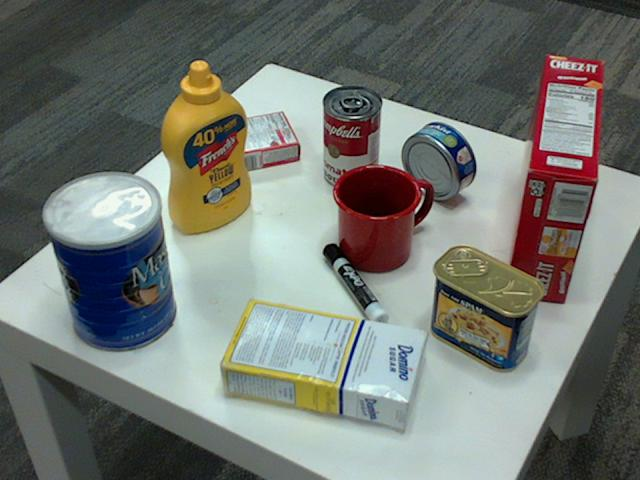cracker_box: (502, 53, 603, 301)
gelatin_box: (216, 108, 301, 170)
large_marker: (322, 245, 388, 331)
master_chef_can: (40, 172, 174, 352)
mug: (330, 162, 428, 269)
mustard_bottle: (159, 60, 251, 232)
potted_meat_can: (427, 244, 544, 371)
sugar_box: (213, 296, 424, 427)
tomato_soup_can: (321, 85, 381, 190)
tuna_fish_can: (400, 121, 474, 199)
